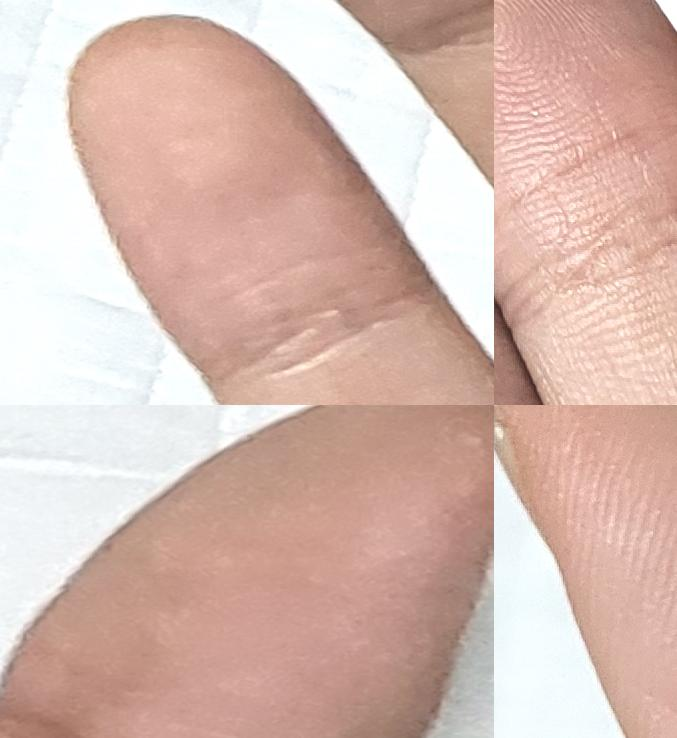Fingerprints: (0, 405, 493, 738), (67, 15, 426, 370), (501, 405, 677, 738), (494, 0, 677, 311)
